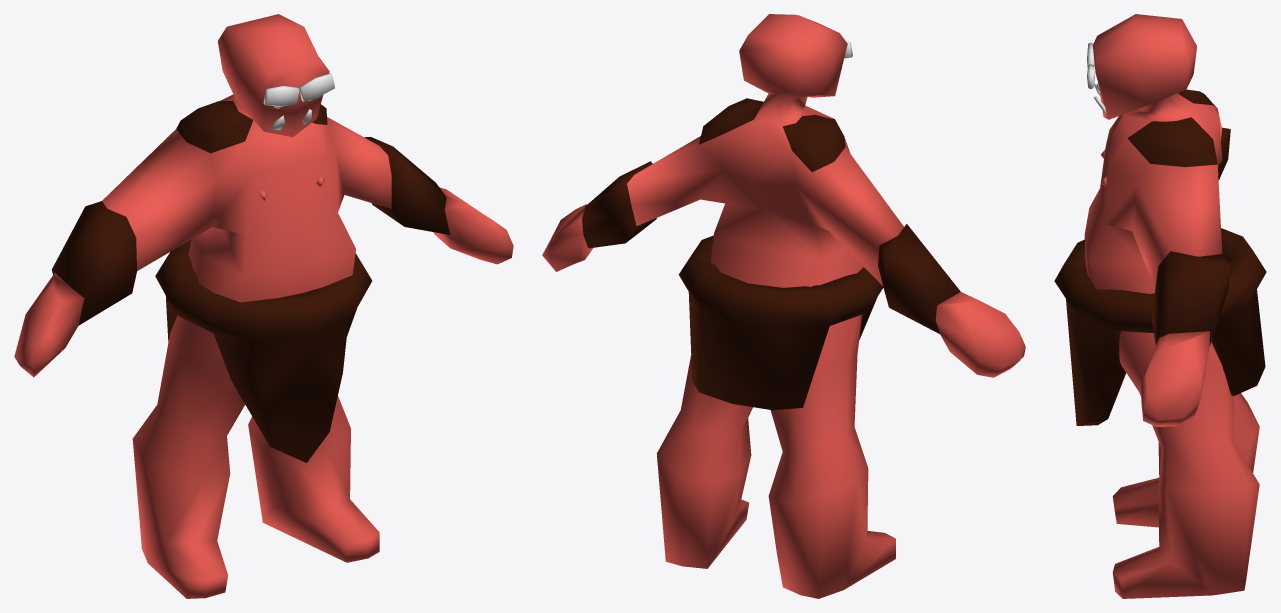
File: people-characters-ogre-304.glb
The picture shows the model from 3 angles, left to right: view 1: azimuth 30°, elevation 25°; view 2: azimuth 150°, elevation 25°; view 3: azimuth 270°, elevation 25°; orthographic projection. The views are drawn at different scales.
Visible parts, largest first — view 1: Cube.001_Cube.001_Material.003, Cube.001_Cube.001_Material.004, Cube.001_Cube.001_Material.001; view 2: Cube.001_Cube.001_Material.003, Cube.001_Cube.001_Material.004; view 3: Cube.001_Cube.001_Material.003, Cube.001_Cube.001_Material.004, Cube.001_Cube.001_Material.001.
Part boxes in pixels (bbox=[...]): Cube.001_Cube.001_Material.003: bbox=[14, 14, 513, 598]; Cube.001_Cube.001_Material.004: bbox=[51, 100, 450, 462]; Cube.001_Cube.001_Material.001: bbox=[263, 73, 334, 108]; Cube.001_Cube.001_Material.003: bbox=[542, 14, 1025, 598]; Cube.001_Cube.001_Material.004: bbox=[582, 98, 960, 410]; Cube.001_Cube.001_Material.003: bbox=[1084, 14, 1259, 598]; Cube.001_Cube.001_Material.004: bbox=[1054, 89, 1266, 425]; Cube.001_Cube.001_Material.001: bbox=[1087, 42, 1100, 91].
Bounding box in the file's own units: 3.29 × 3.49 × 1.27.
